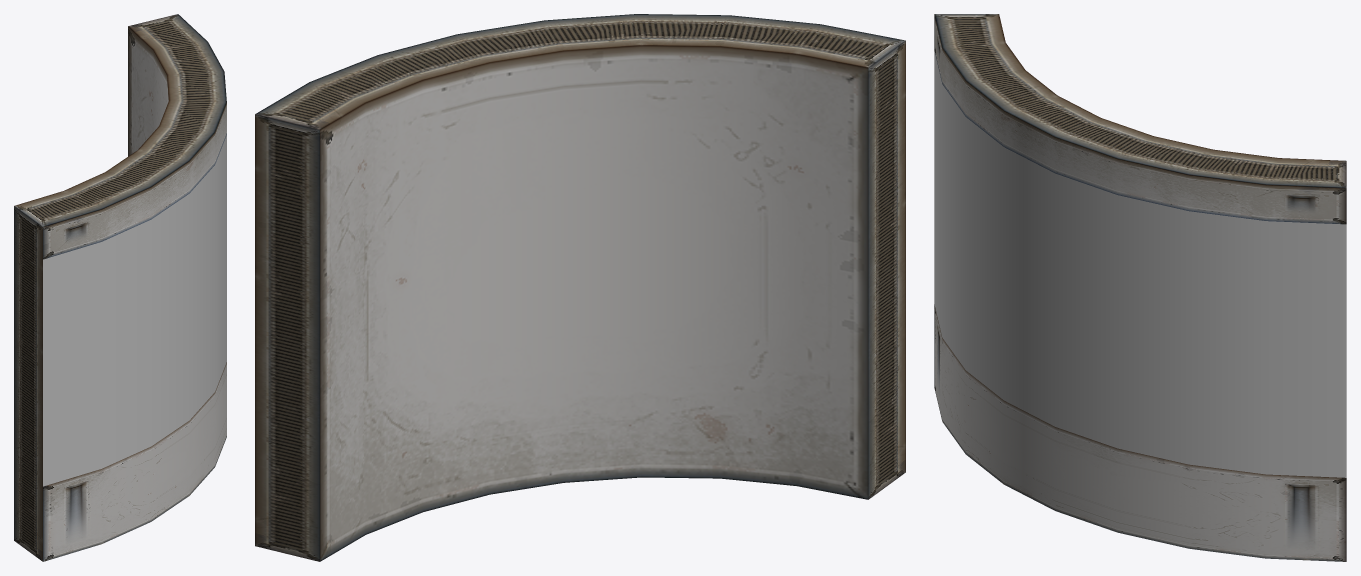
The model's file is scifi_wall_curve1_7.FBX.
3 views of the same model, side by side, from view 1: azimuth 30°, elevation 25°; view 2: azimuth 150°, elevation 25°; view 3: azimuth 270°, elevation 25° (orthographic). The views are drawn at different scales.
Visible parts, largest first — view 1: Plane099; view 2: Plane099; view 3: Plane099.
Boxes of the visible parts, <box> form: Plane099: <box>14,14,226,561</box>; Plane099: <box>255,14,905,561</box>; Plane099: <box>934,14,1346,561</box>.
Bounding box in the file's own units: 254 × 254 × 254.
